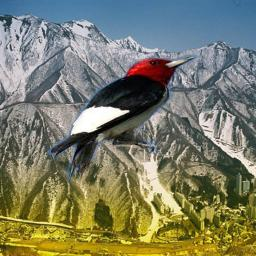Woodpecker: (46, 55, 201, 183)
